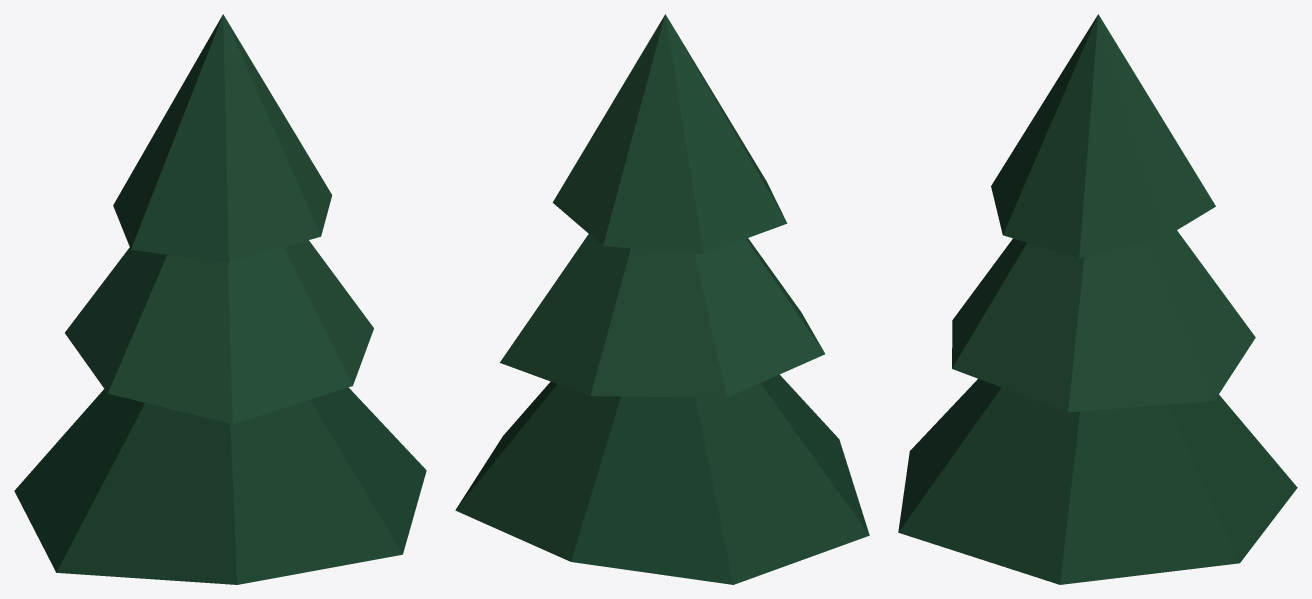
File: tree_pine_a.glb
3 renders of one model, left to right at view 1: azimuth 30°, elevation 25°; view 2: azimuth 150°, elevation 25°; view 3: azimuth 270°, elevation 25°, orthographic.
Parts seen in each view (by area): view 1: TreePineA; view 2: TreePineA; view 3: TreePineA.
Part boxes in pixels (bbox=[...]): TreePineA: bbox=[14, 14, 426, 584]; TreePineA: bbox=[455, 14, 869, 584]; TreePineA: bbox=[898, 14, 1297, 584].
Bounding box in the file's own units: 2.02 × 2.85 × 1.91.
